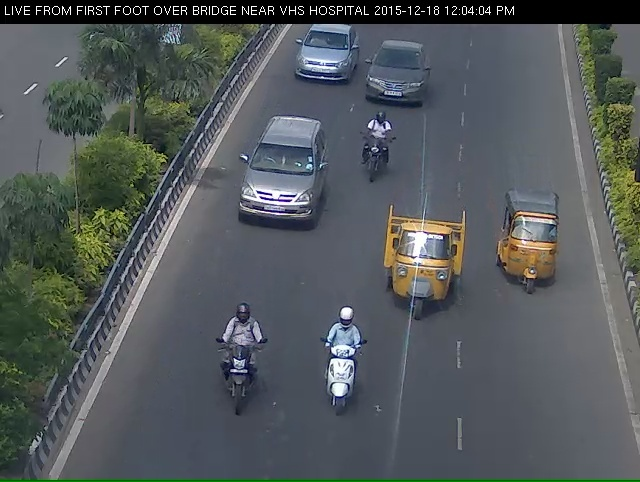Auto: (376, 216, 465, 354), (495, 200, 572, 316)
Car: (235, 128, 318, 244), (285, 31, 349, 88), (367, 50, 422, 110)
Person: (206, 335, 273, 447), (311, 343, 365, 451), (354, 122, 389, 202)
